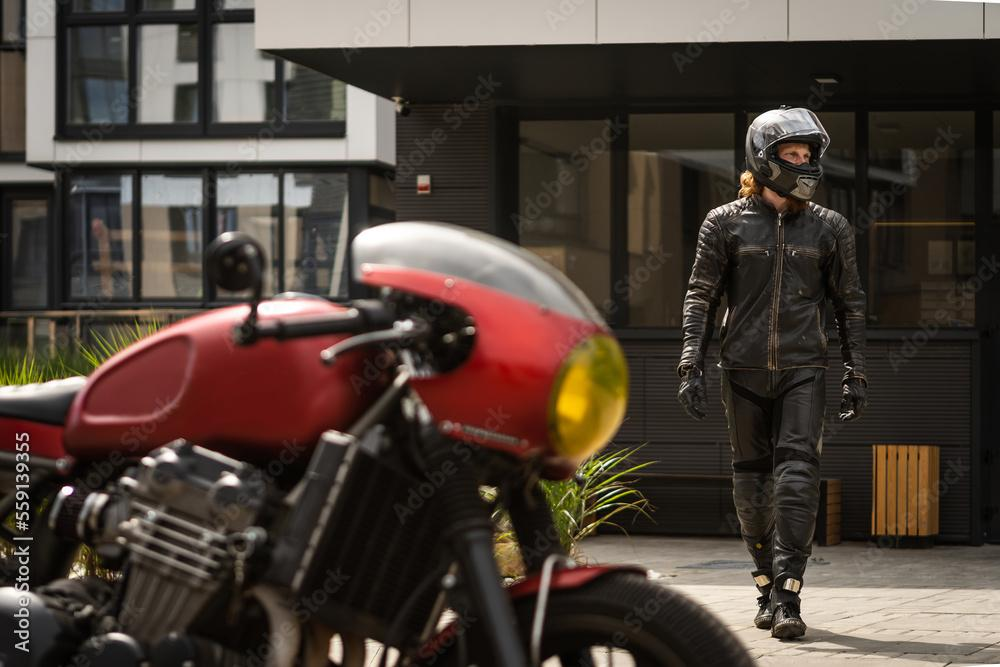helmet: (744, 104, 832, 202)
